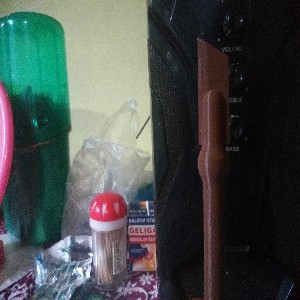cutter: (195, 36, 232, 300)
